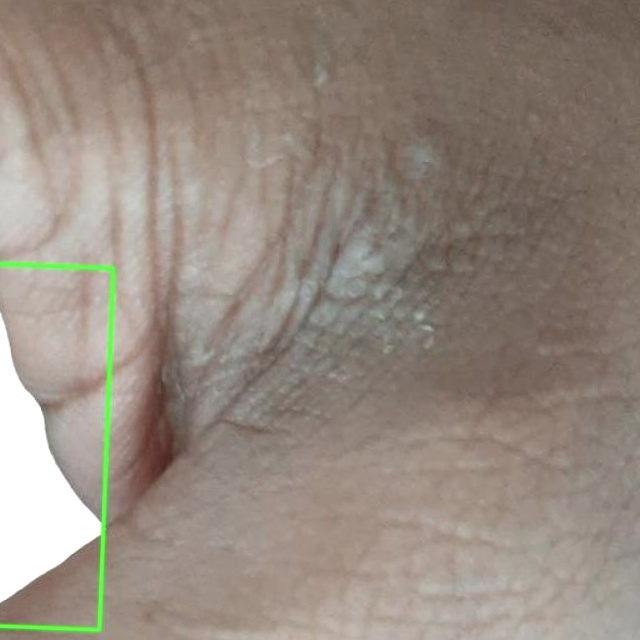Scabies: (0, 264, 113, 630)
